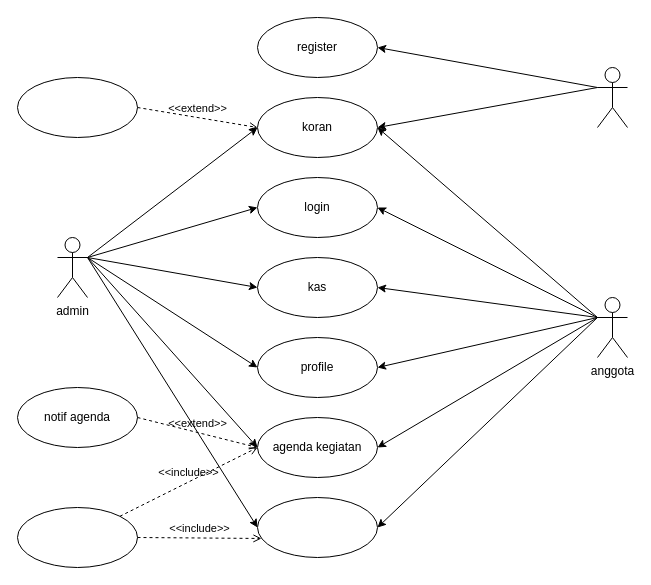
Some shapes in this 651 by 585 pixel diagram are drawn without their labels. The centre of each missing label's shape, as x and y in pixels:
absensi: (x=77, y=537)
agenda rapat: (x=317, y=527)
guest: (x=612, y=97)
notif new koran: (x=77, y=107)
